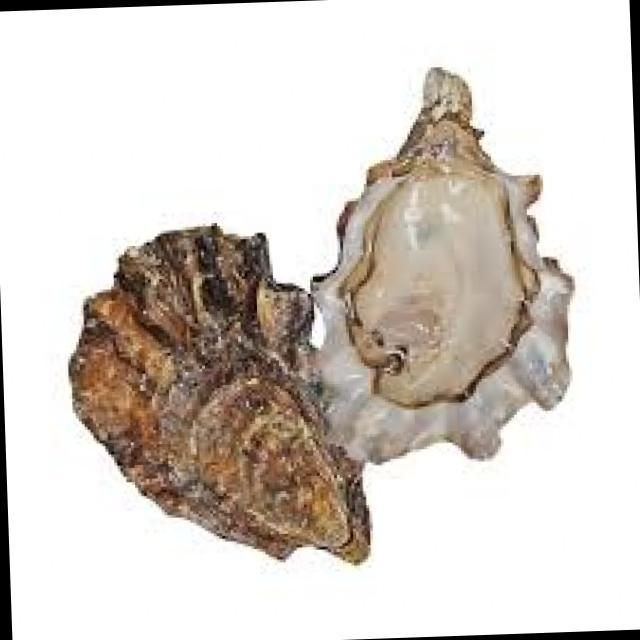Oyster- Indeterminate: (69, 225, 370, 562)
Oyster-Open: (312, 68, 572, 462)
